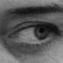eye: (34, 26, 49, 39)
